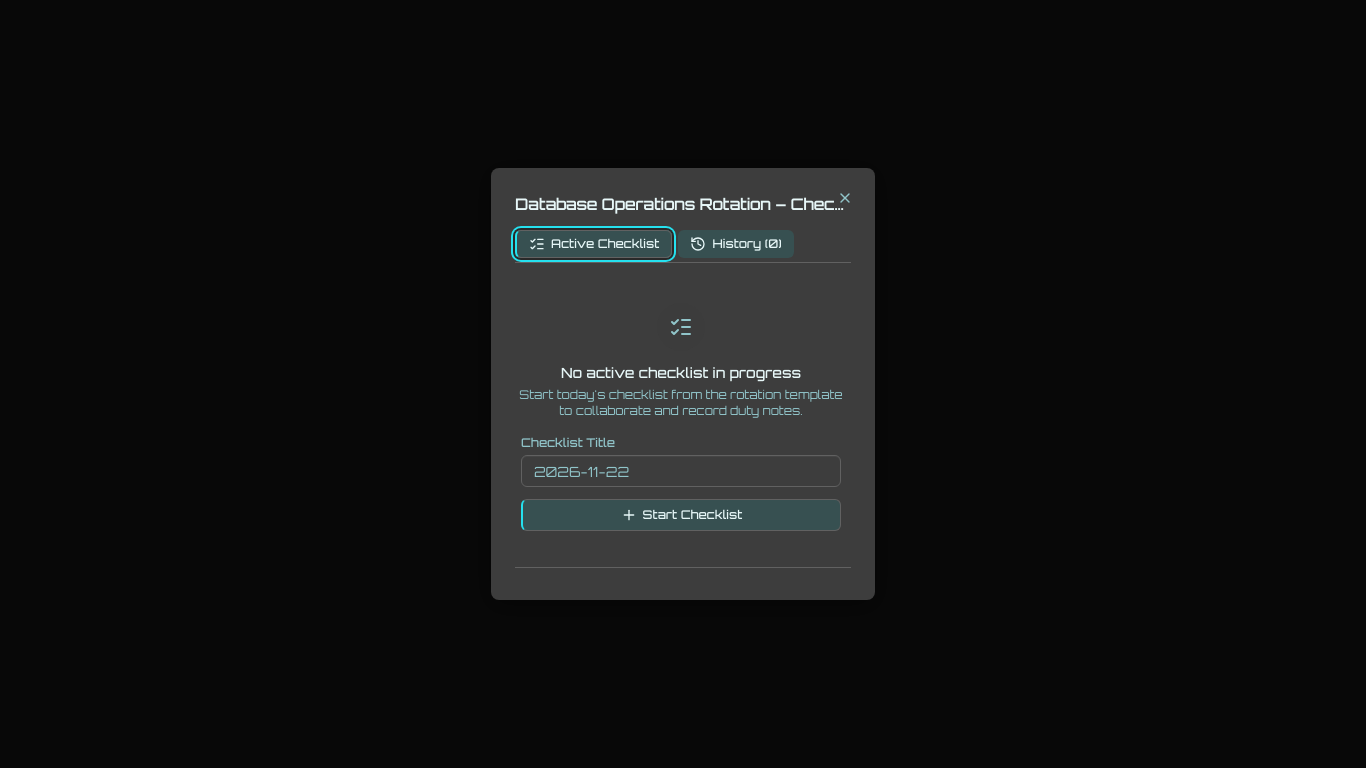
Test: GreenkeepingTasklistDialog › starts a new checklist and updates state
Click the button "Start Checklist": x=681, y=515 [521, 499, 841, 531]
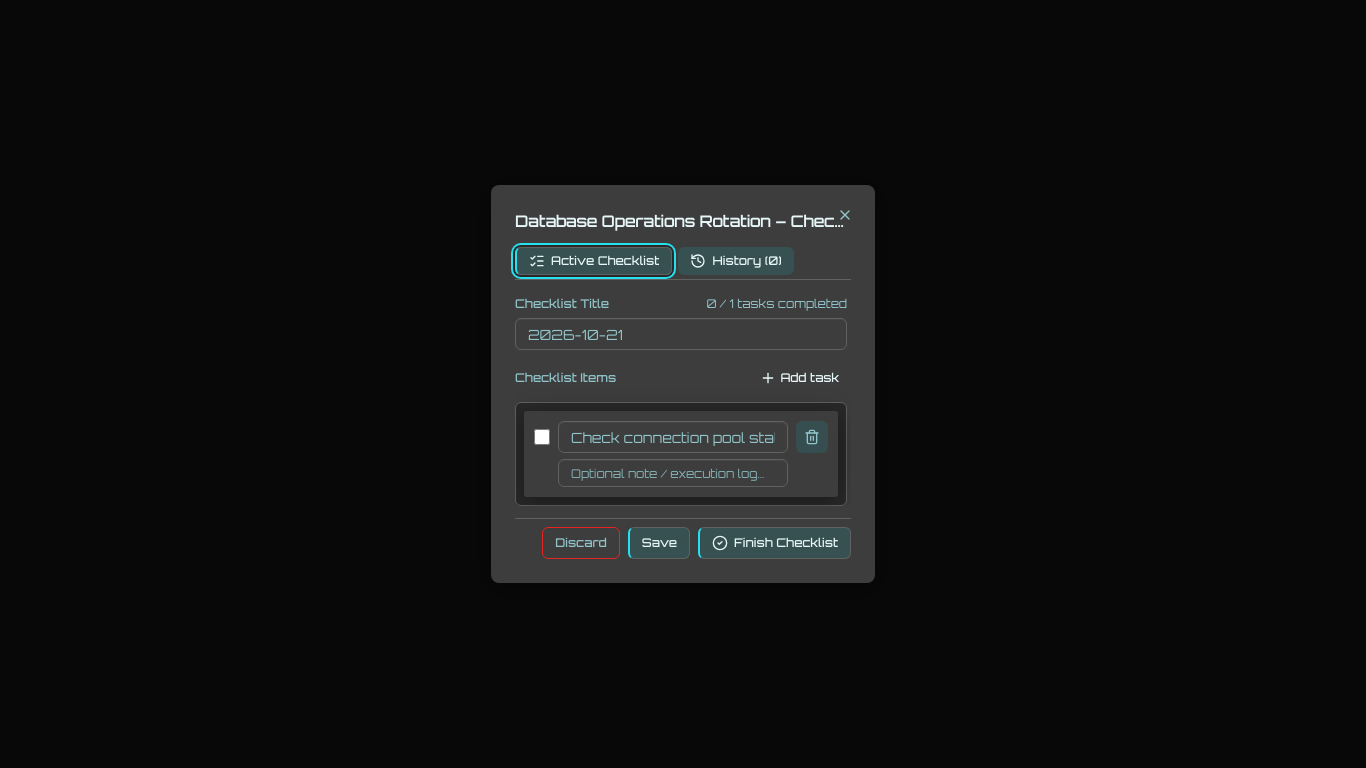
Result: the 2nd field showing "Check connection pool stats" is shown at [558, 421, 788, 453]
